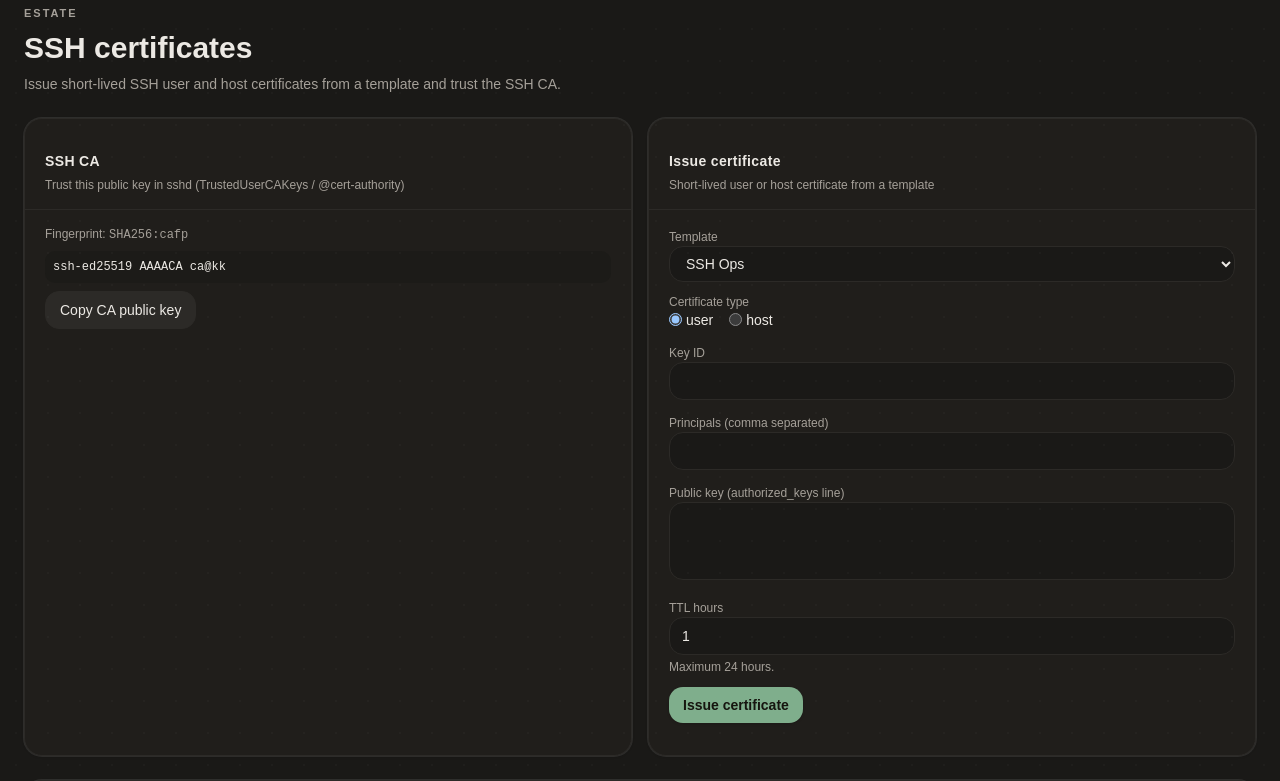
Test case: SSH certificates page › issues a cert and shows the line
Type "kid-1" into the field labelled "Key ID". click: (952, 380)
box: [669,362,1235,400]
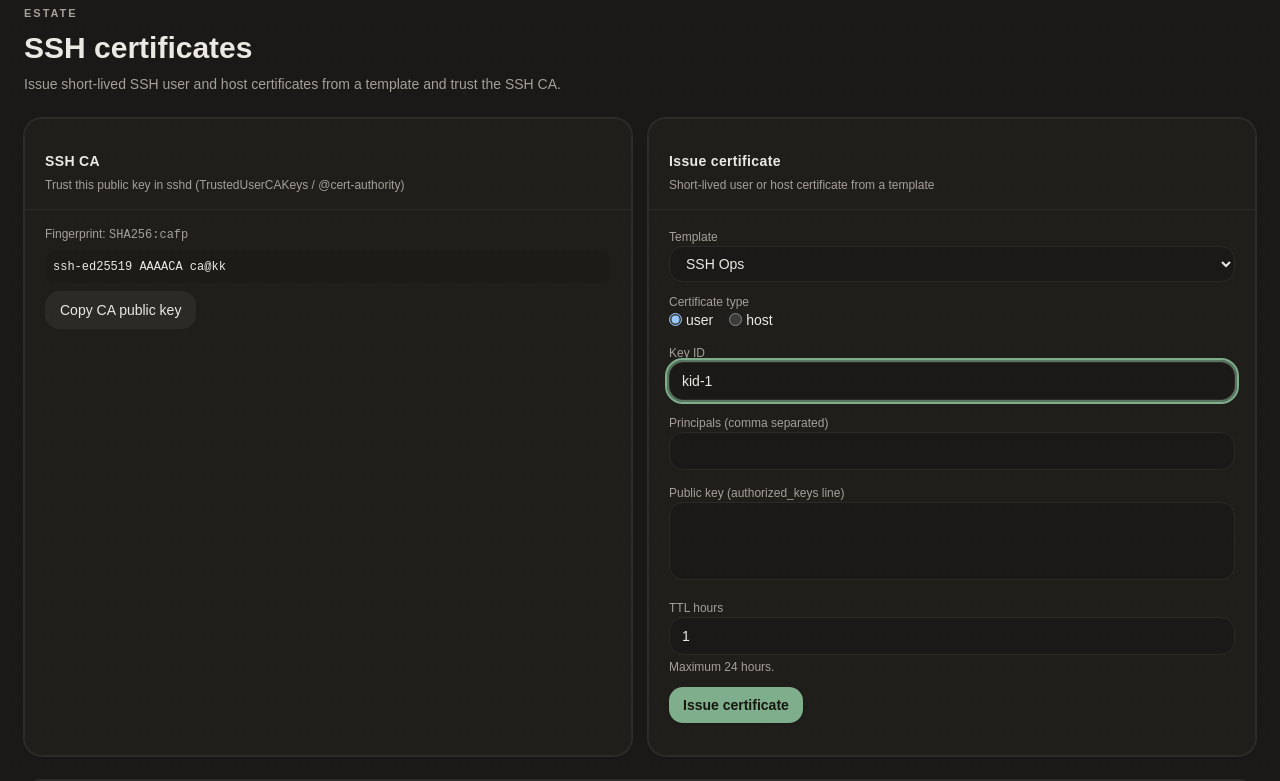
Type "alice" into the field labelled "Principals (comma separated)". click: (952, 450)
box: [669,432,1235,470]
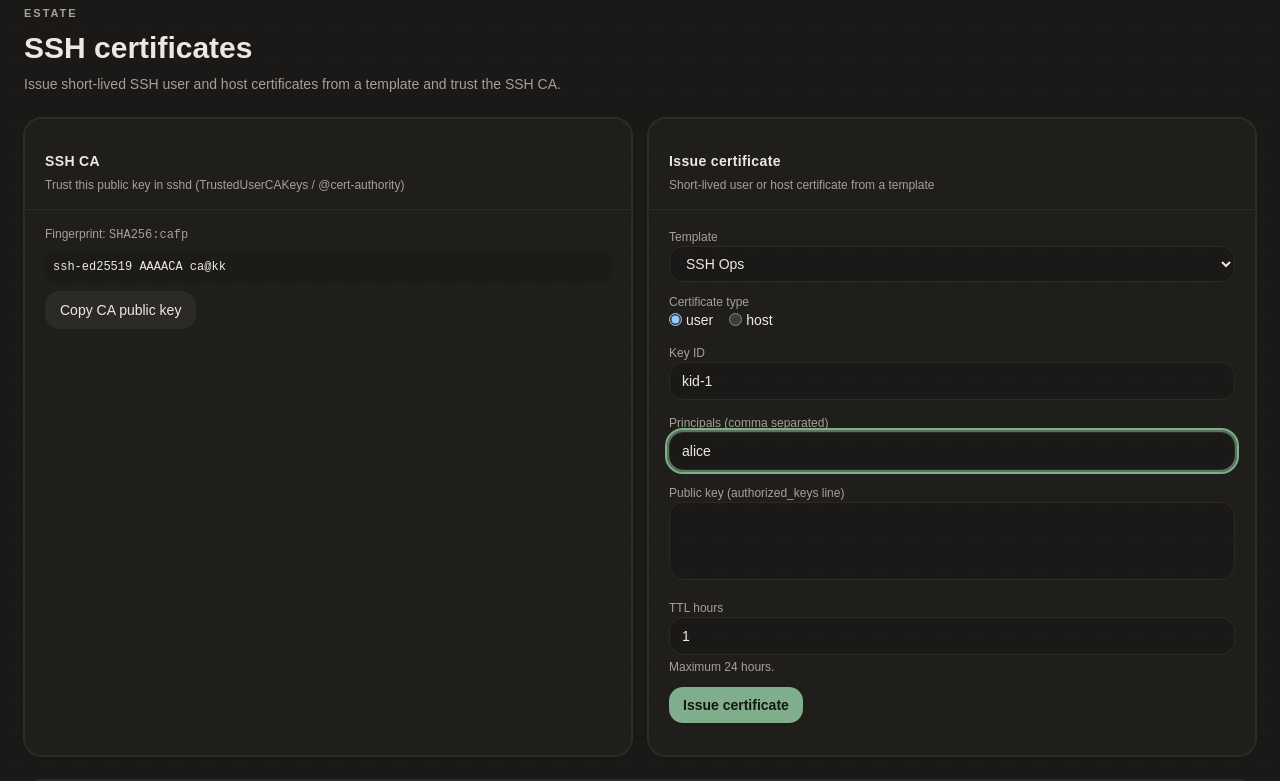
Click the text box labelled "Public key (authorized_keys line)". click: (952, 540)
box: [669,502,1235,580]
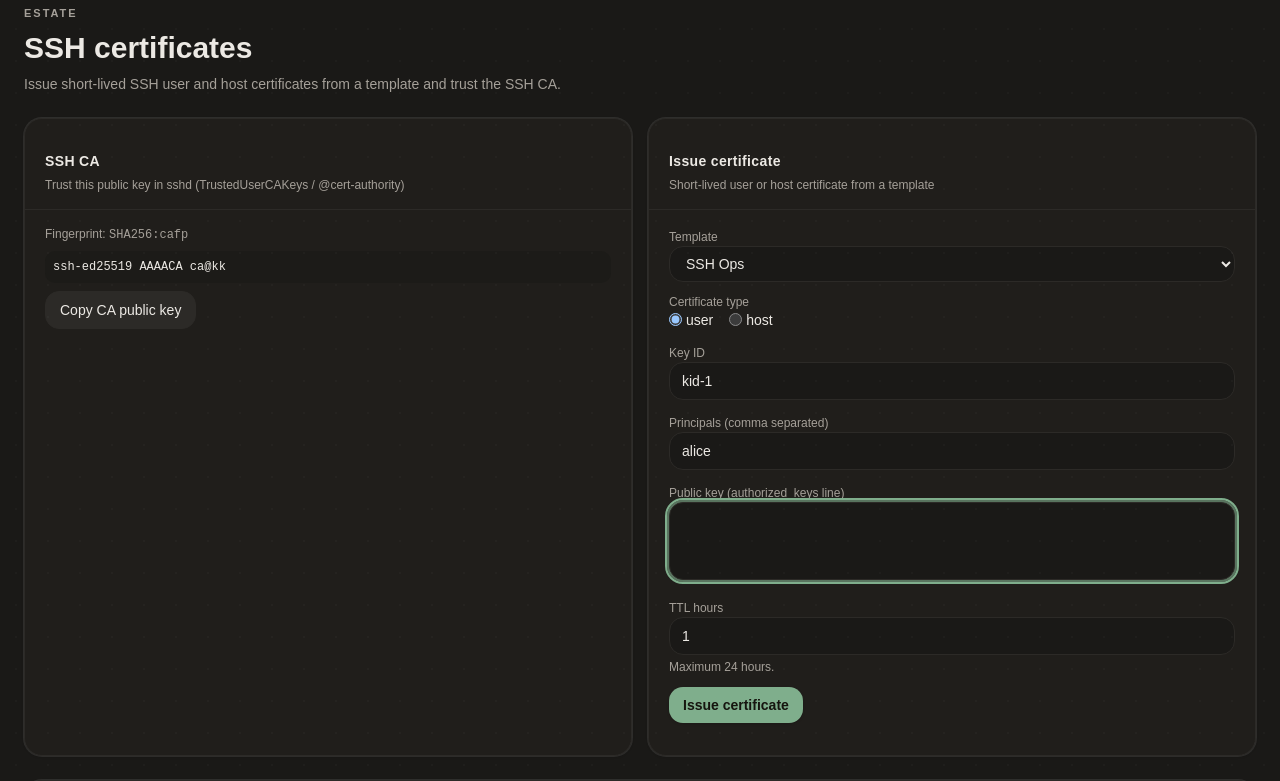
Type keys "ssh-ed25519 AAAAC3NzaC1lZDI1NTE5AAAAIabc user@laptop"
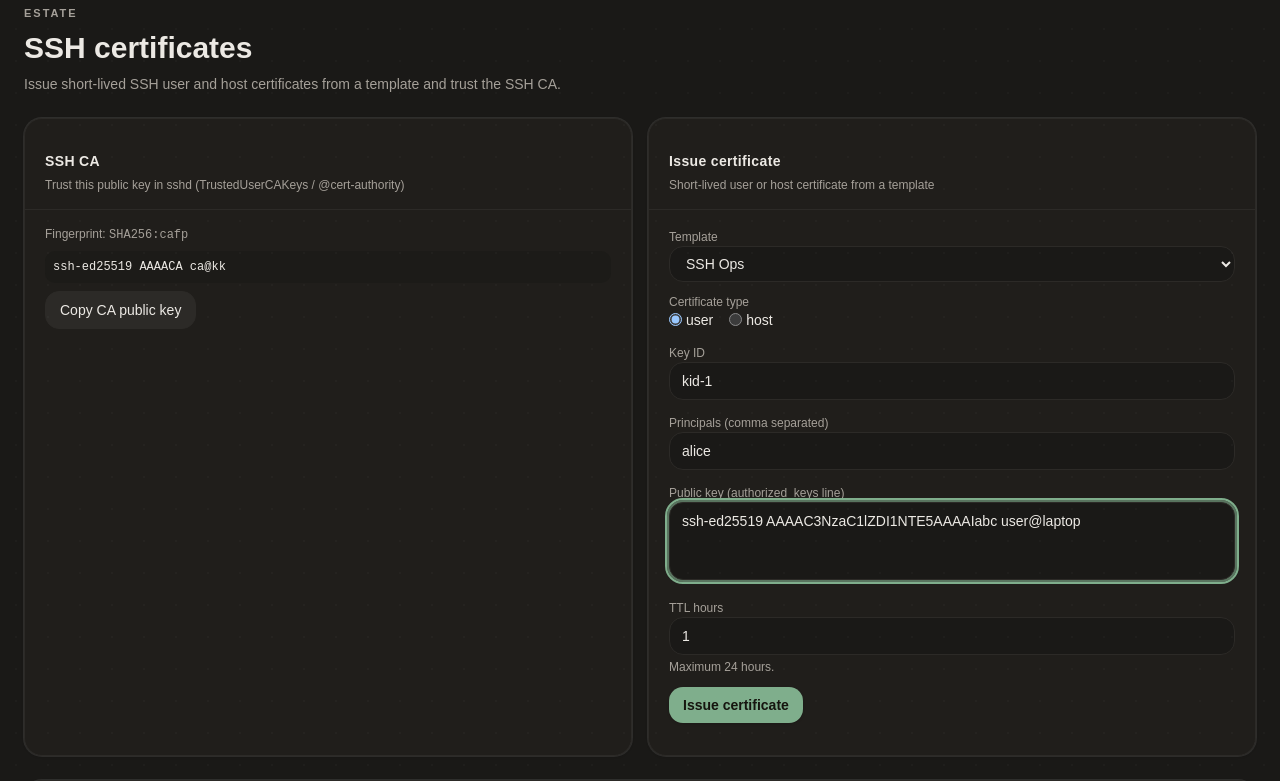
Replace the text in the number field labelled "TTL hours" with "8". click: (952, 636)
box: [669,616,1235,654]
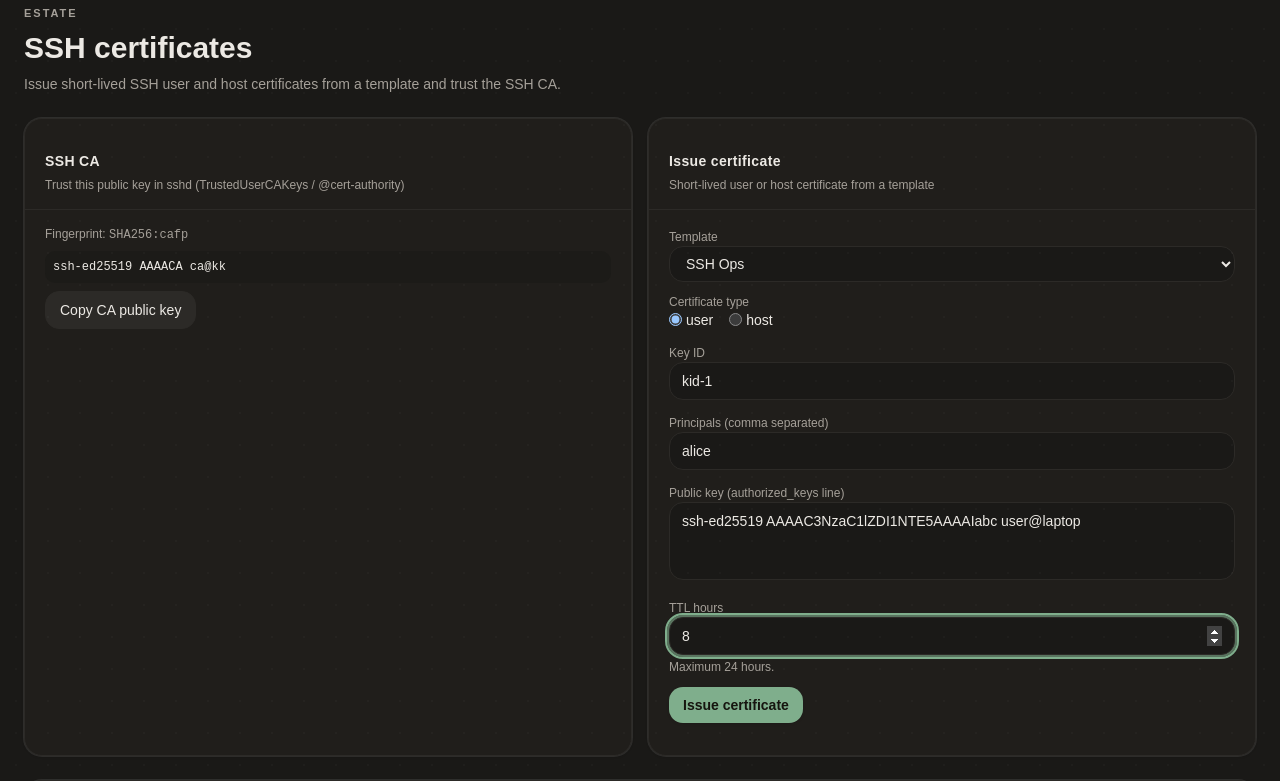
Click the button "Issue certificate". click: (736, 704)
box: [669,686,803,722]
(page scrolled)
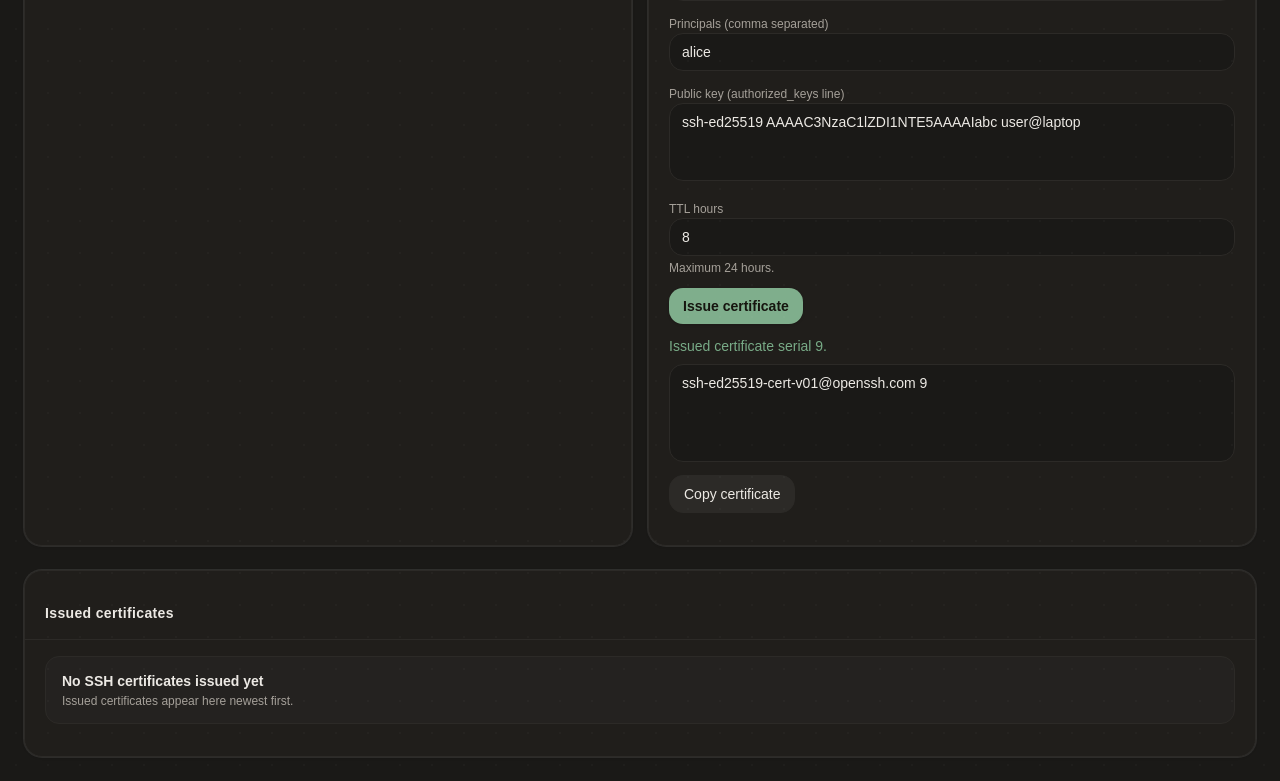
Expected: the text box named "Issued certificate" holds "ssh-ed25519-cert-v01@openssh.com 9", [669,364,1235,462]
